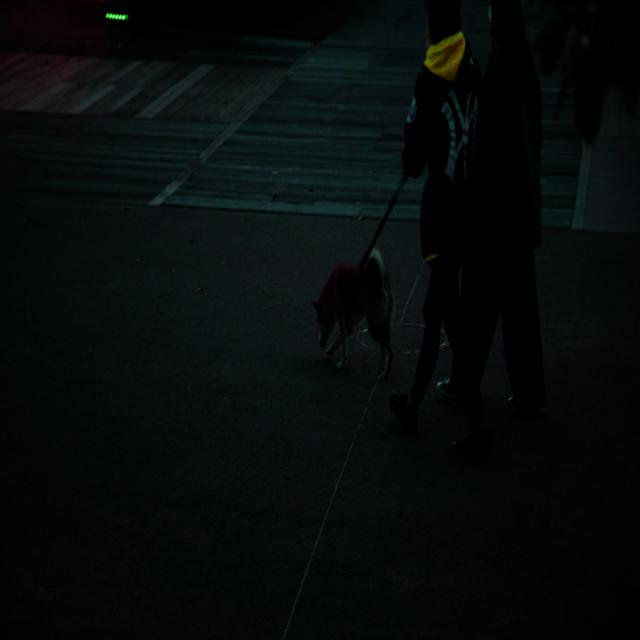Leashed_Dog: (313, 162, 441, 382)
